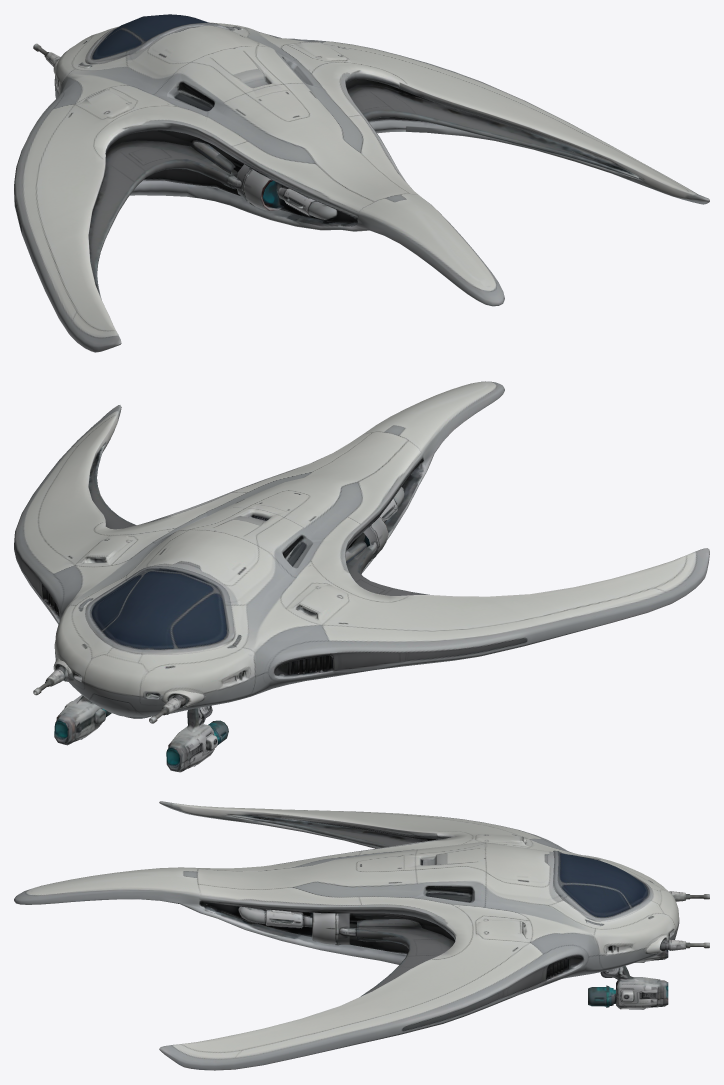
File: gladis.glb
3 views of the same model, one above another, from view 1: azimuth 30°, elevation 25°; view 2: azimuth 150°, elevation 25°; view 3: azimuth 270°, elevation 25° (orthographic). The views are drawn at different scales.
Visible parts, largest first — view 1: tripo_node_53f497ea-deef-4437-bb44-bdb2ed0ced9d; view 2: tripo_node_53f497ea-deef-4437-bb44-bdb2ed0ced9d; view 3: tripo_node_53f497ea-deef-4437-bb44-bdb2ed0ced9d.
Boxes of the visible parts, x1=… form: tripo_node_53f497ea-deef-4437-bb44-bdb2ed0ced9d: x1=14, y1=14, x2=709, y2=352; tripo_node_53f497ea-deef-4437-bb44-bdb2ed0ced9d: x1=14, y1=381, x2=709, y2=772; tripo_node_53f497ea-deef-4437-bb44-bdb2ed0ced9d: x1=14, y1=801, x2=709, y2=1070.
Size of the model in its own units: 0.8706 by 0.2065 by 0.9995.
1 material, 1 textured.
